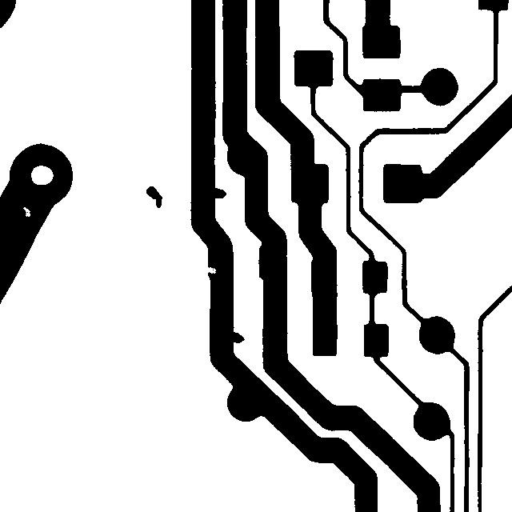copper: (138, 178, 170, 215)
mousebite: (197, 258, 223, 281)
pin-hole: (15, 199, 38, 224)
spur: (220, 324, 252, 350), (205, 180, 234, 204)
